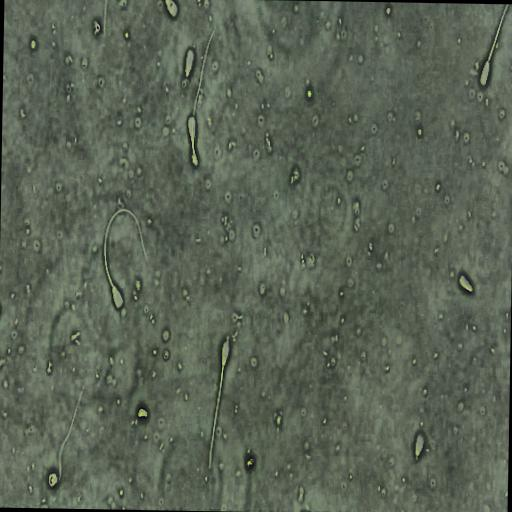dirt-particles: (137, 405, 150, 421), (244, 454, 256, 471), (93, 19, 102, 37), (30, 37, 37, 52)
folded-tail: (192, 29, 214, 167)
loose-head: (414, 428, 427, 461), (184, 45, 195, 79), (458, 272, 474, 294), (165, 0, 180, 21)
normal: (181, 20, 222, 182), (101, 205, 150, 315), (205, 336, 233, 475), (478, 4, 509, 89)
